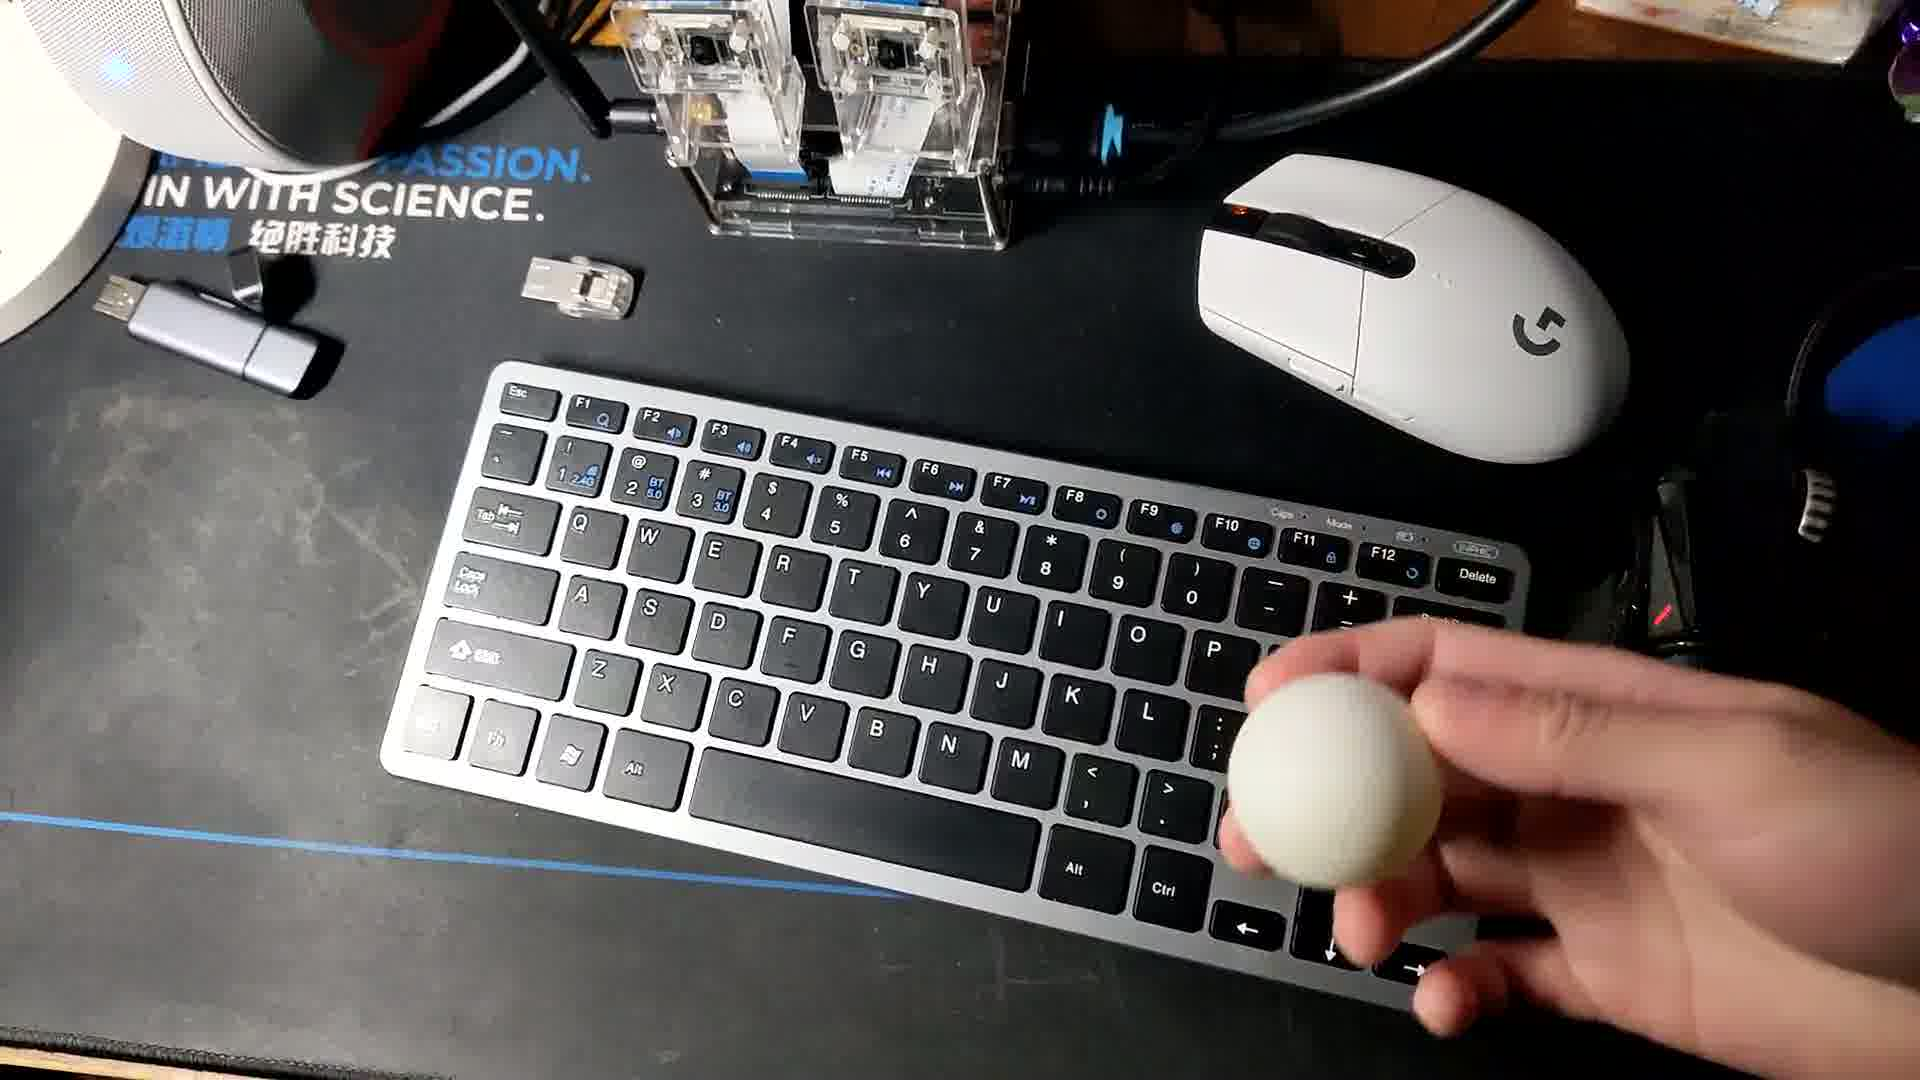Ball: (1230, 671, 1449, 895)
